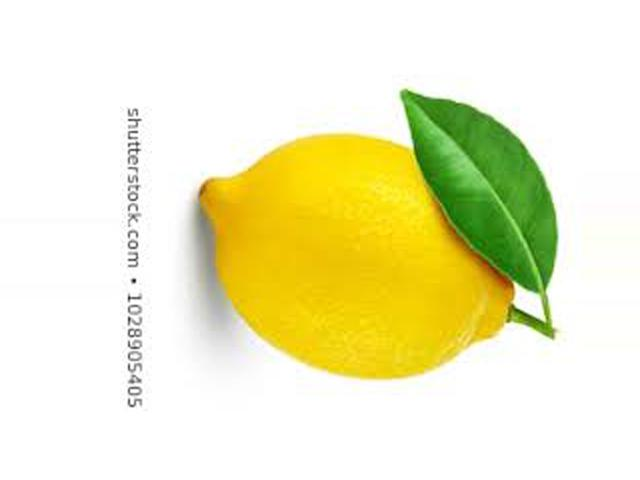lemon: (174, 127, 534, 393)
